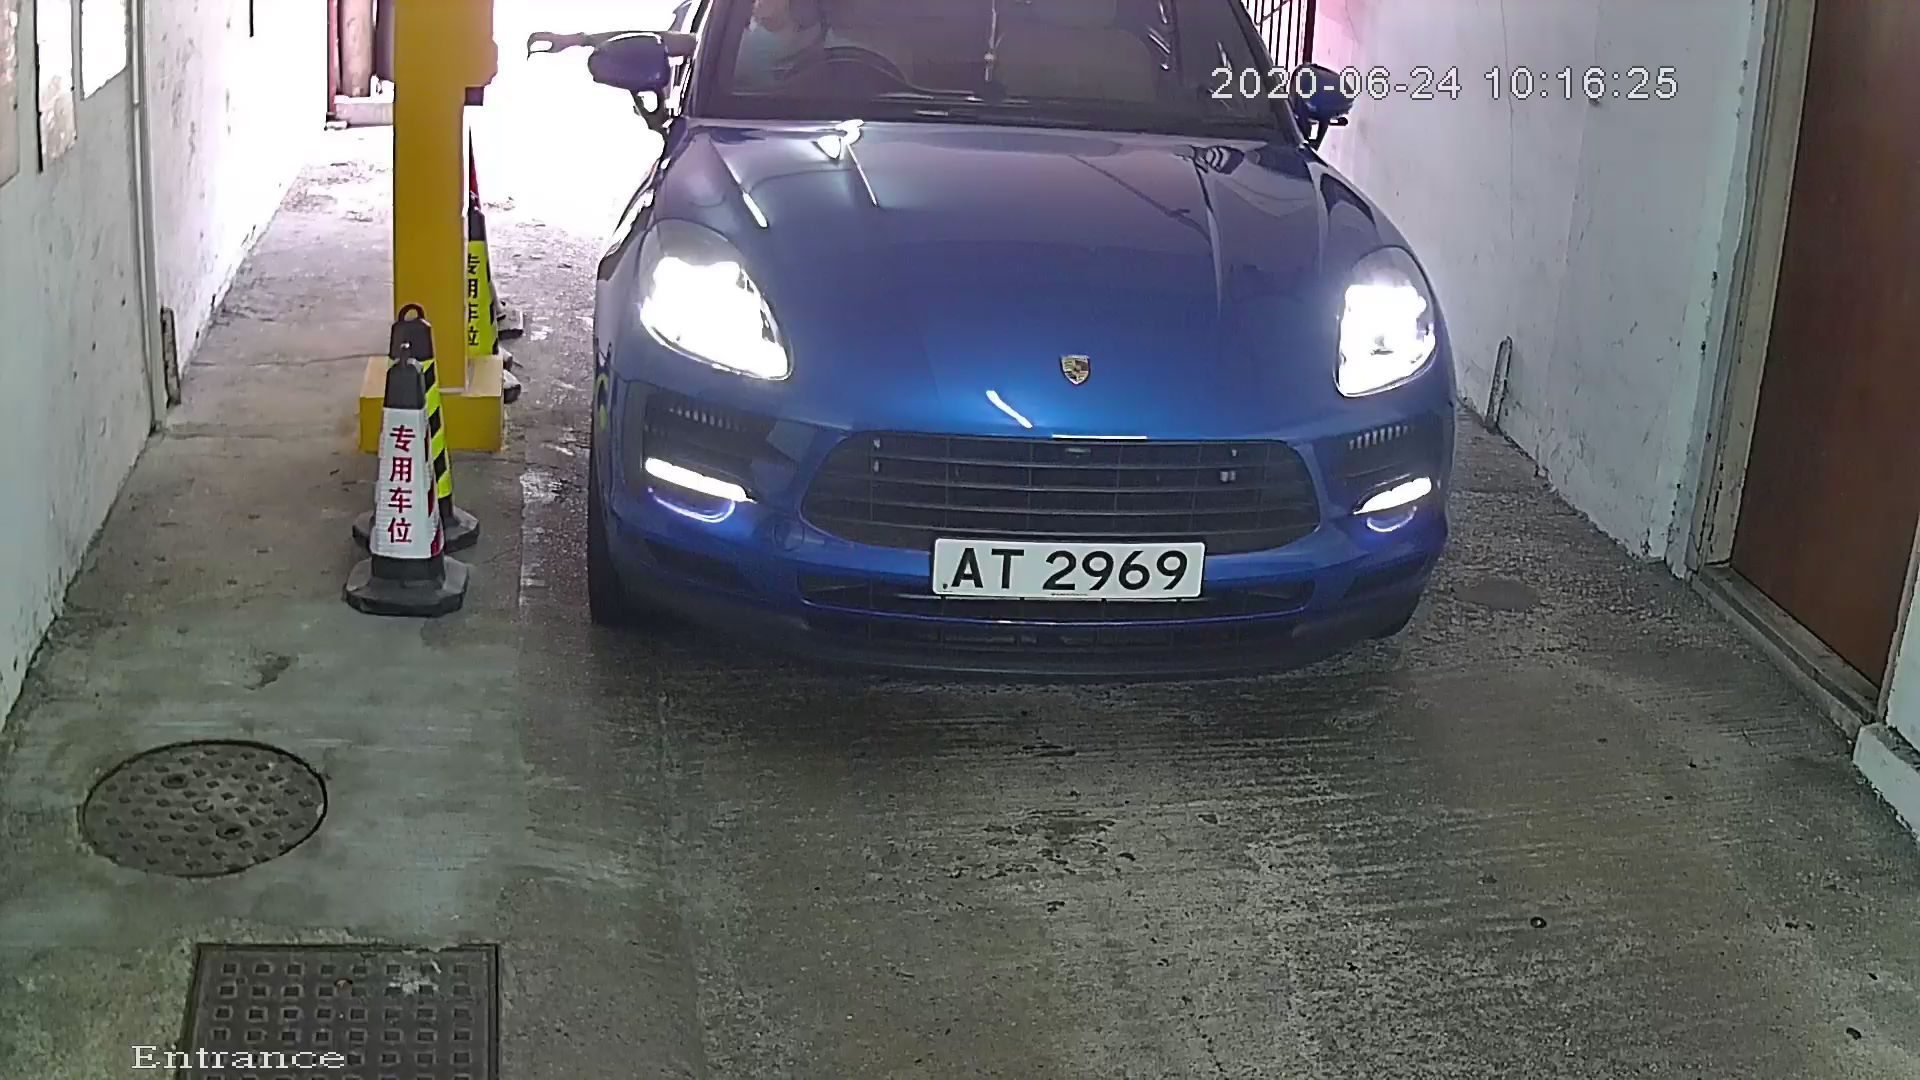Car: (532, 1, 1445, 722)
License Plate: (921, 526, 1215, 617)
